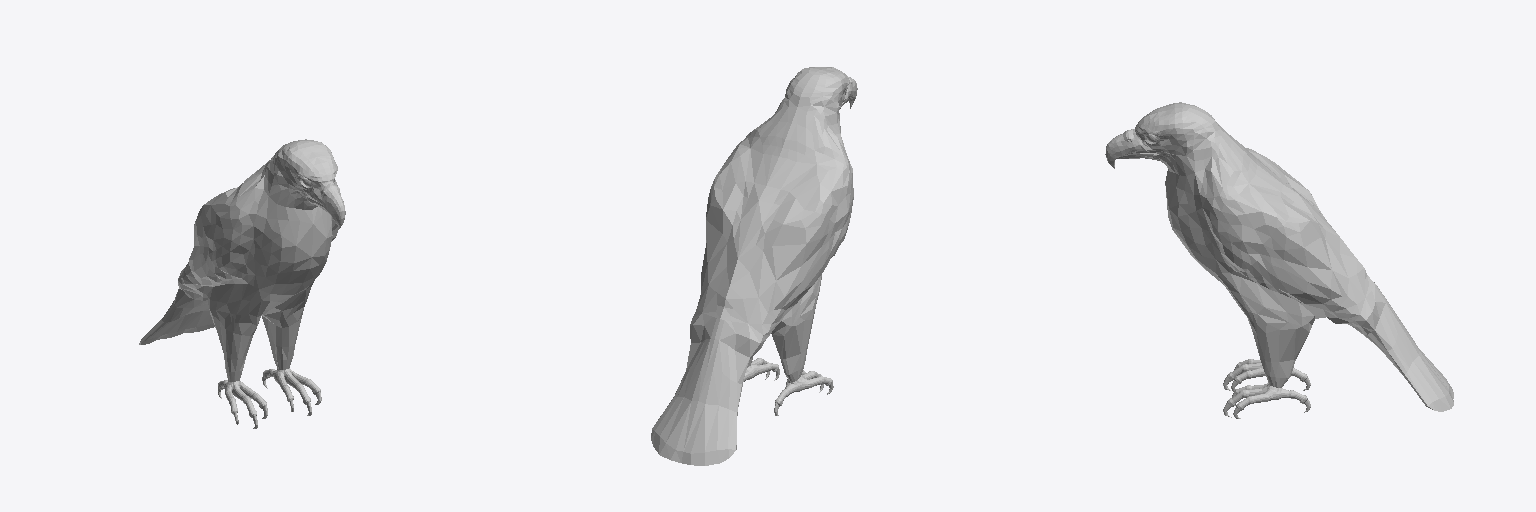
The model's file is eagle.obj.
3 renders of one model, left to right at view 1: azimuth 30°, elevation 25°; view 2: azimuth 150°, elevation 25°; view 3: azimuth 270°, elevation 25°, orthographic.
Visible parts, largest first — view 1: eg1_body; view 2: eg1_body; view 3: eg1_body.
Boxes of the visible parts, <box> form: eg1_body: <box>139,139,345,428</box>; eg1_body: <box>651,67,857,465</box>; eg1_body: <box>1105,102,1453,418</box>.
Bounding box in the file's own units: 0.1131 × 0.2611 × 0.2781.